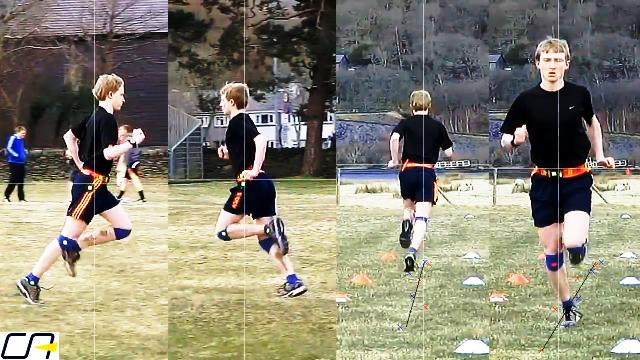berlari: (496, 27, 612, 338), (7, 71, 138, 318), (204, 80, 314, 300), (383, 86, 453, 284)
